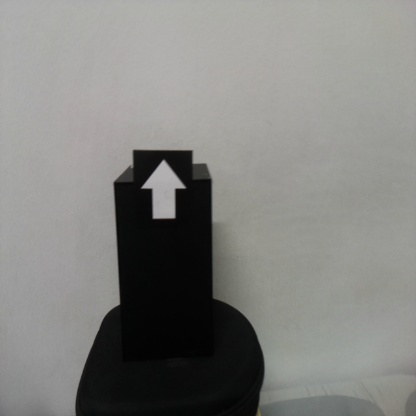id_1: (133, 150, 194, 232)
